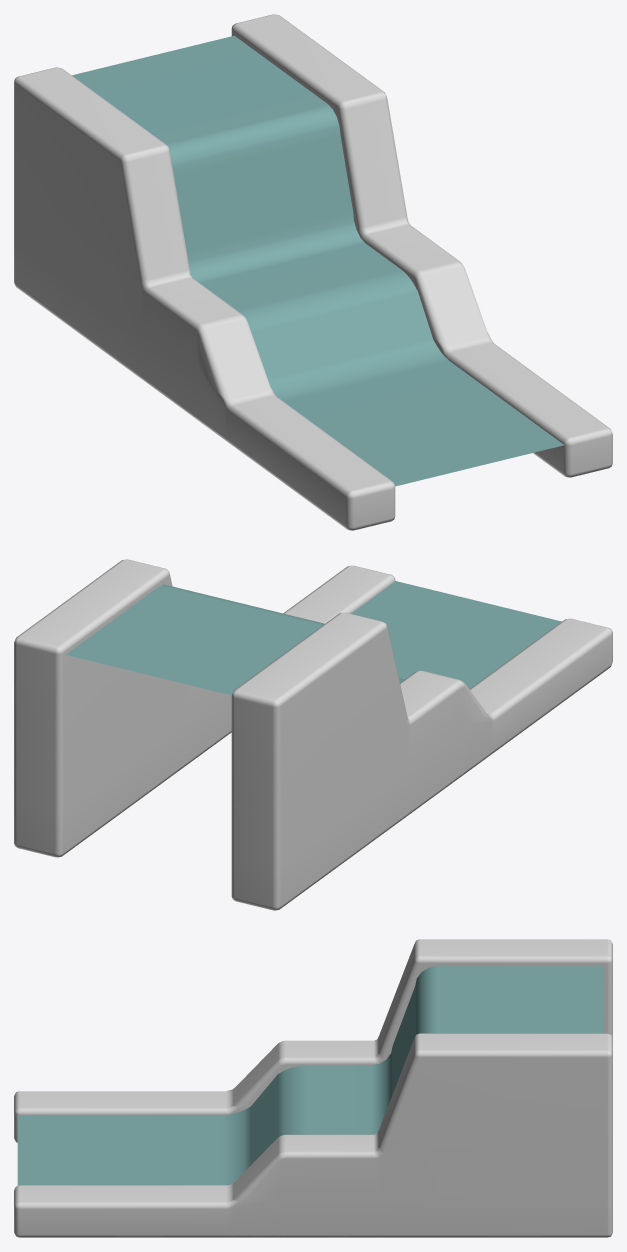
File: river.fbx
3 renders of one model, top to bottom at view 1: azimuth 30°, elevation 25°; view 2: azimuth 150°, elevation 25°; view 3: azimuth 270°, elevation 25°, orthographic. The views are drawn at different scales.
Parts seen in each view (by area): view 1: river; view 2: river; view 3: river.
Part boxes in pixels (x1=…): river: x1=14, y1=14, x2=612, y2=530; river: x1=14, y1=559, x2=612, y2=910; river: x1=14, y1=939, x2=612, y2=1237.
Size of the model in its own units: 0.5459 by 0.414 by 1.2.
